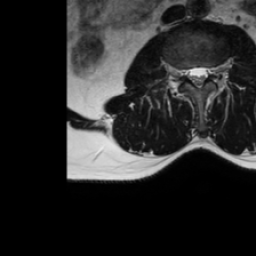CCS_normal: (194, 60, 201, 93)
LFS_normal: (210, 61, 217, 82)
LLS_normal: (201, 61, 209, 84)
RFS_normal: (177, 62, 185, 83)
RLS_normal: (185, 61, 194, 85)
